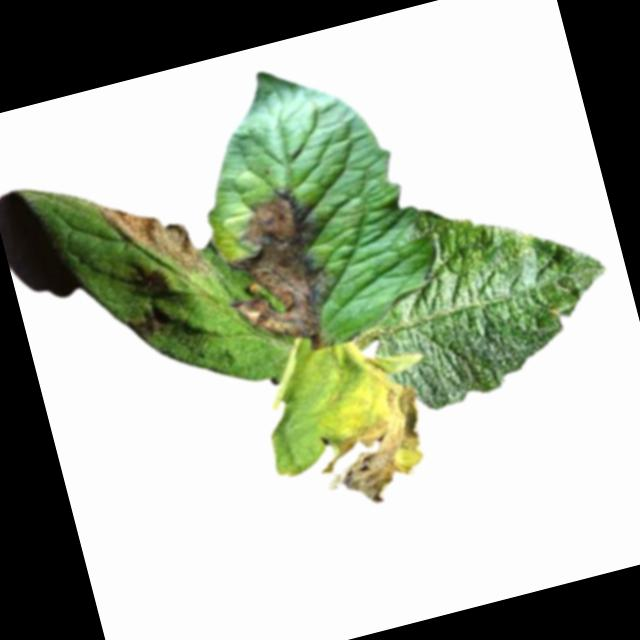Late_blight: (206, 181, 352, 369), (295, 347, 440, 515), (95, 177, 214, 298), (124, 304, 163, 342)
